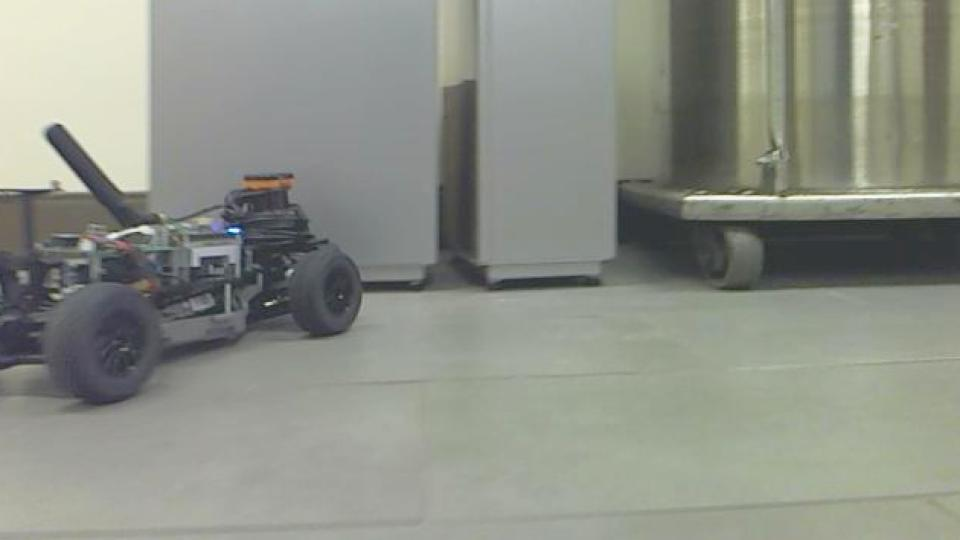car: (0, 119, 367, 407)
